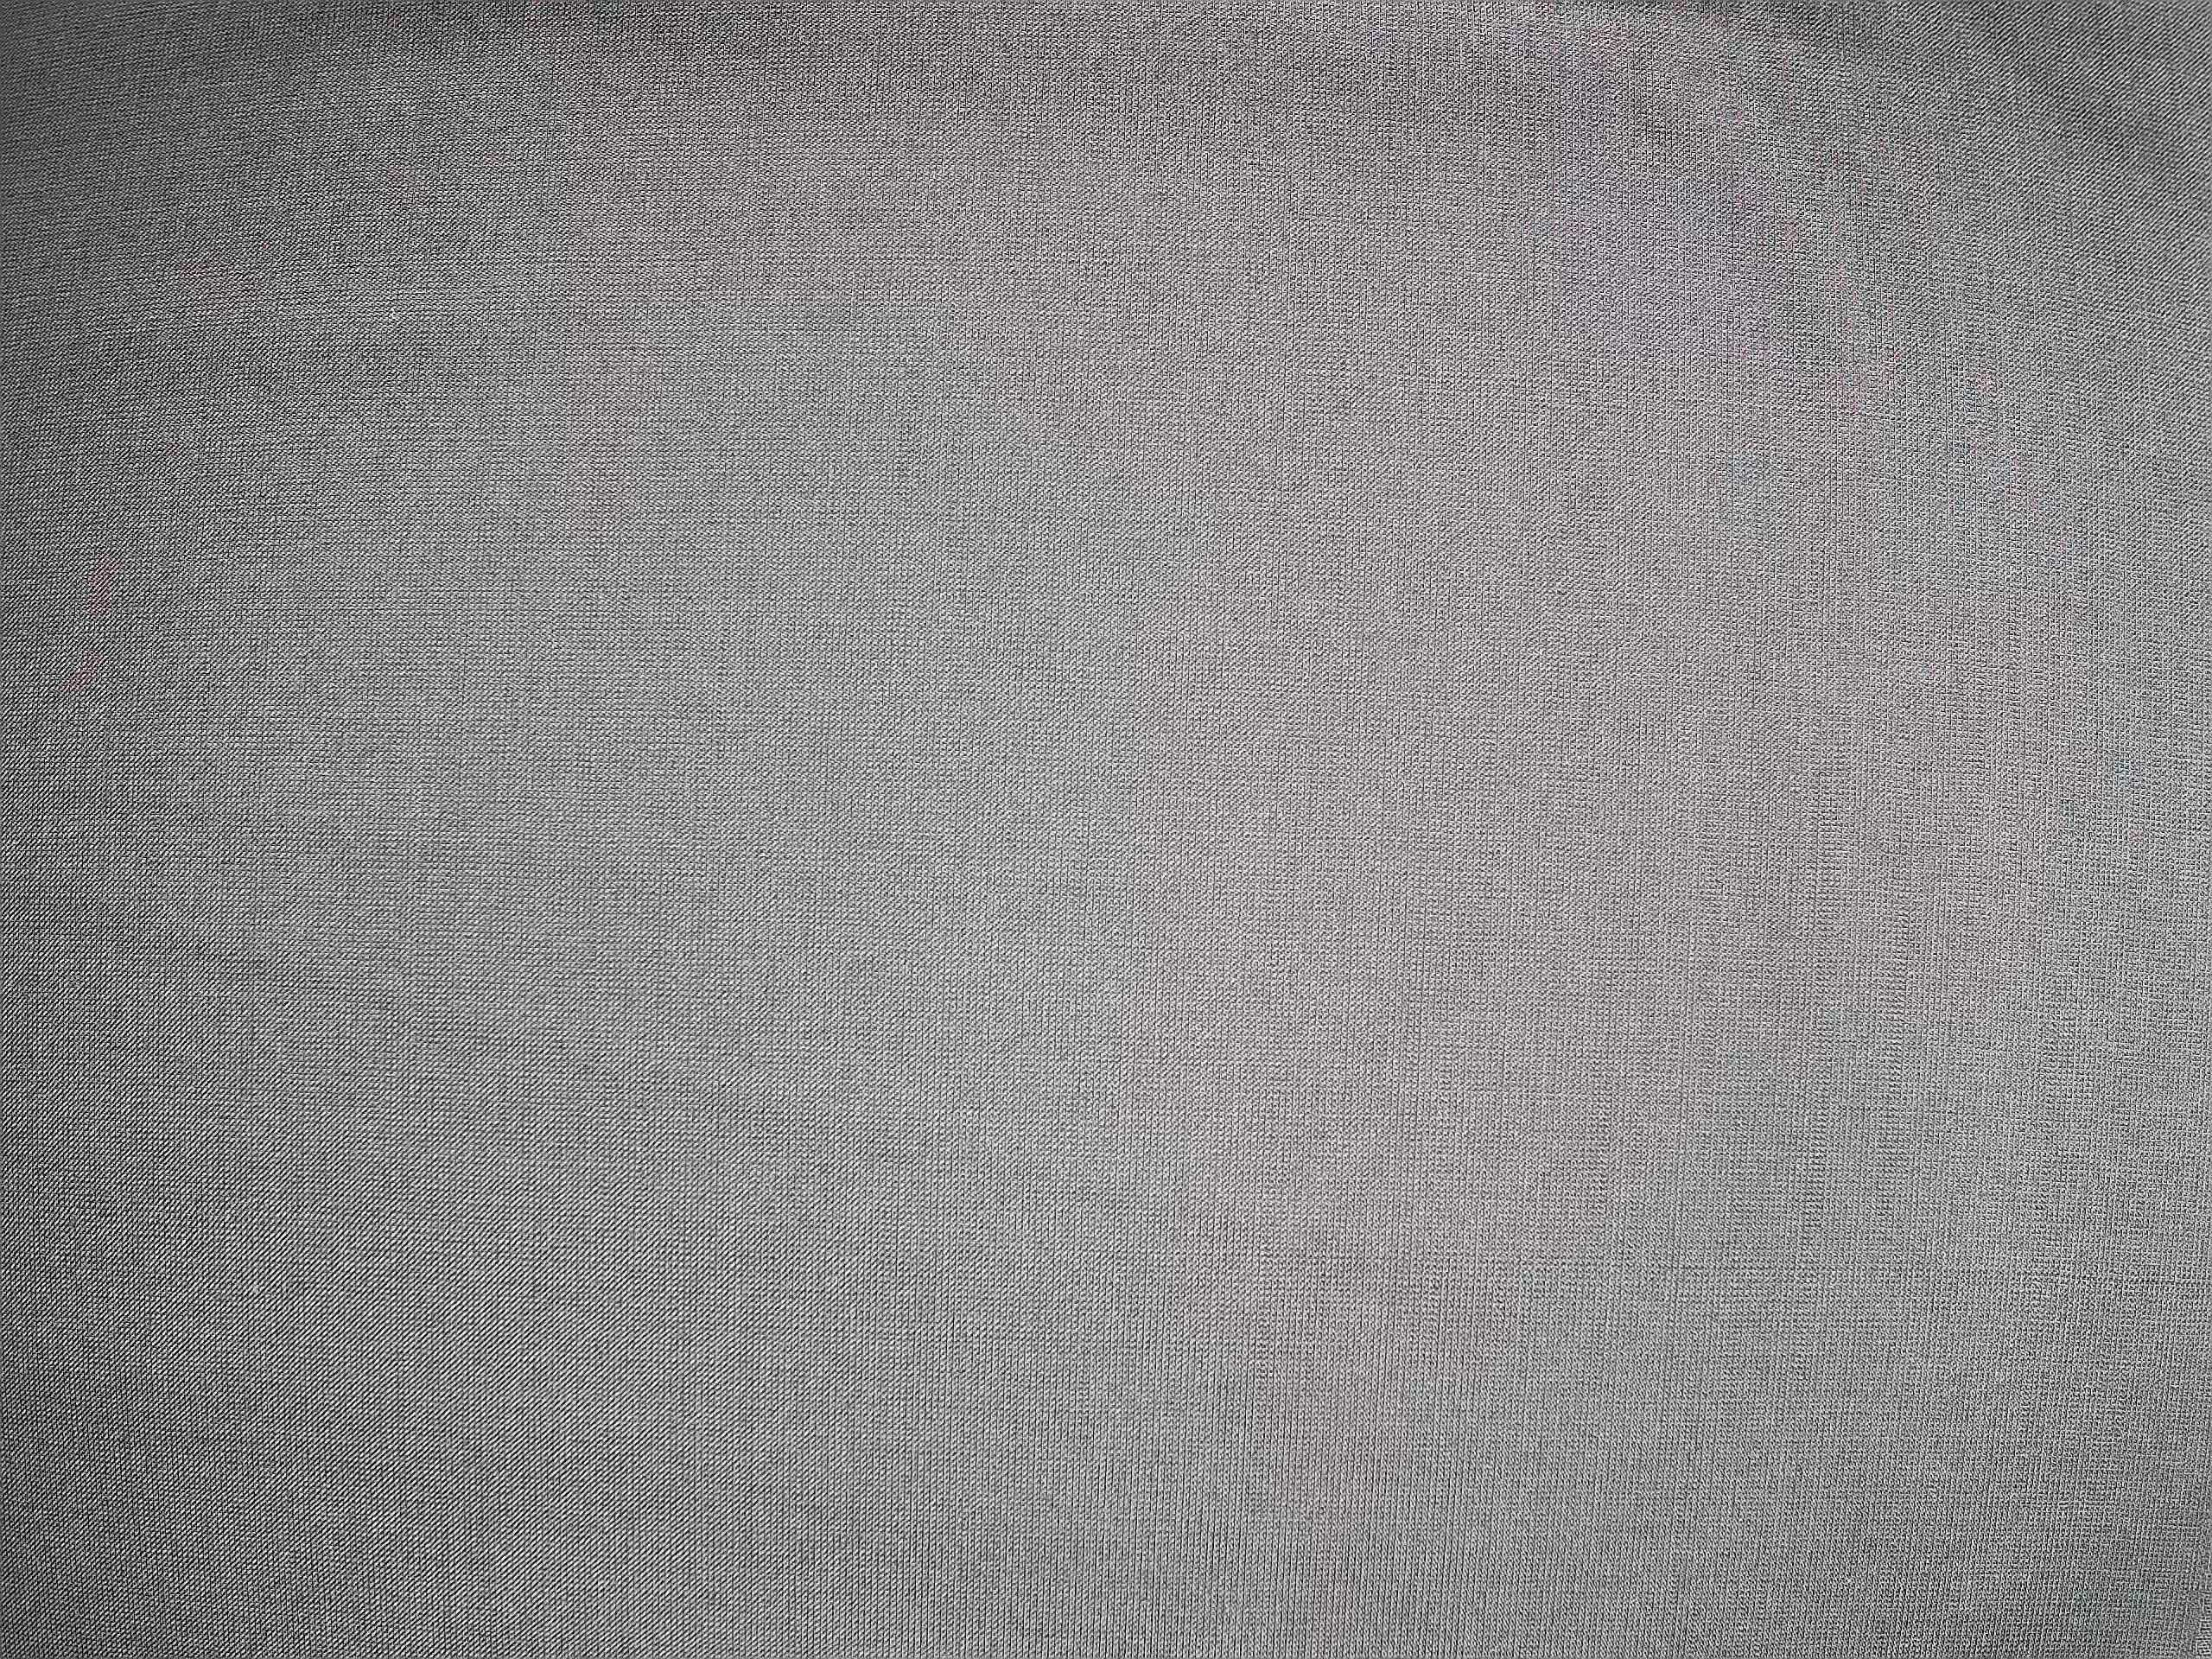thin-spinning: (1791, 706, 1838, 1413), (2026, 960, 2083, 1319), (1871, 840, 1921, 1243)
